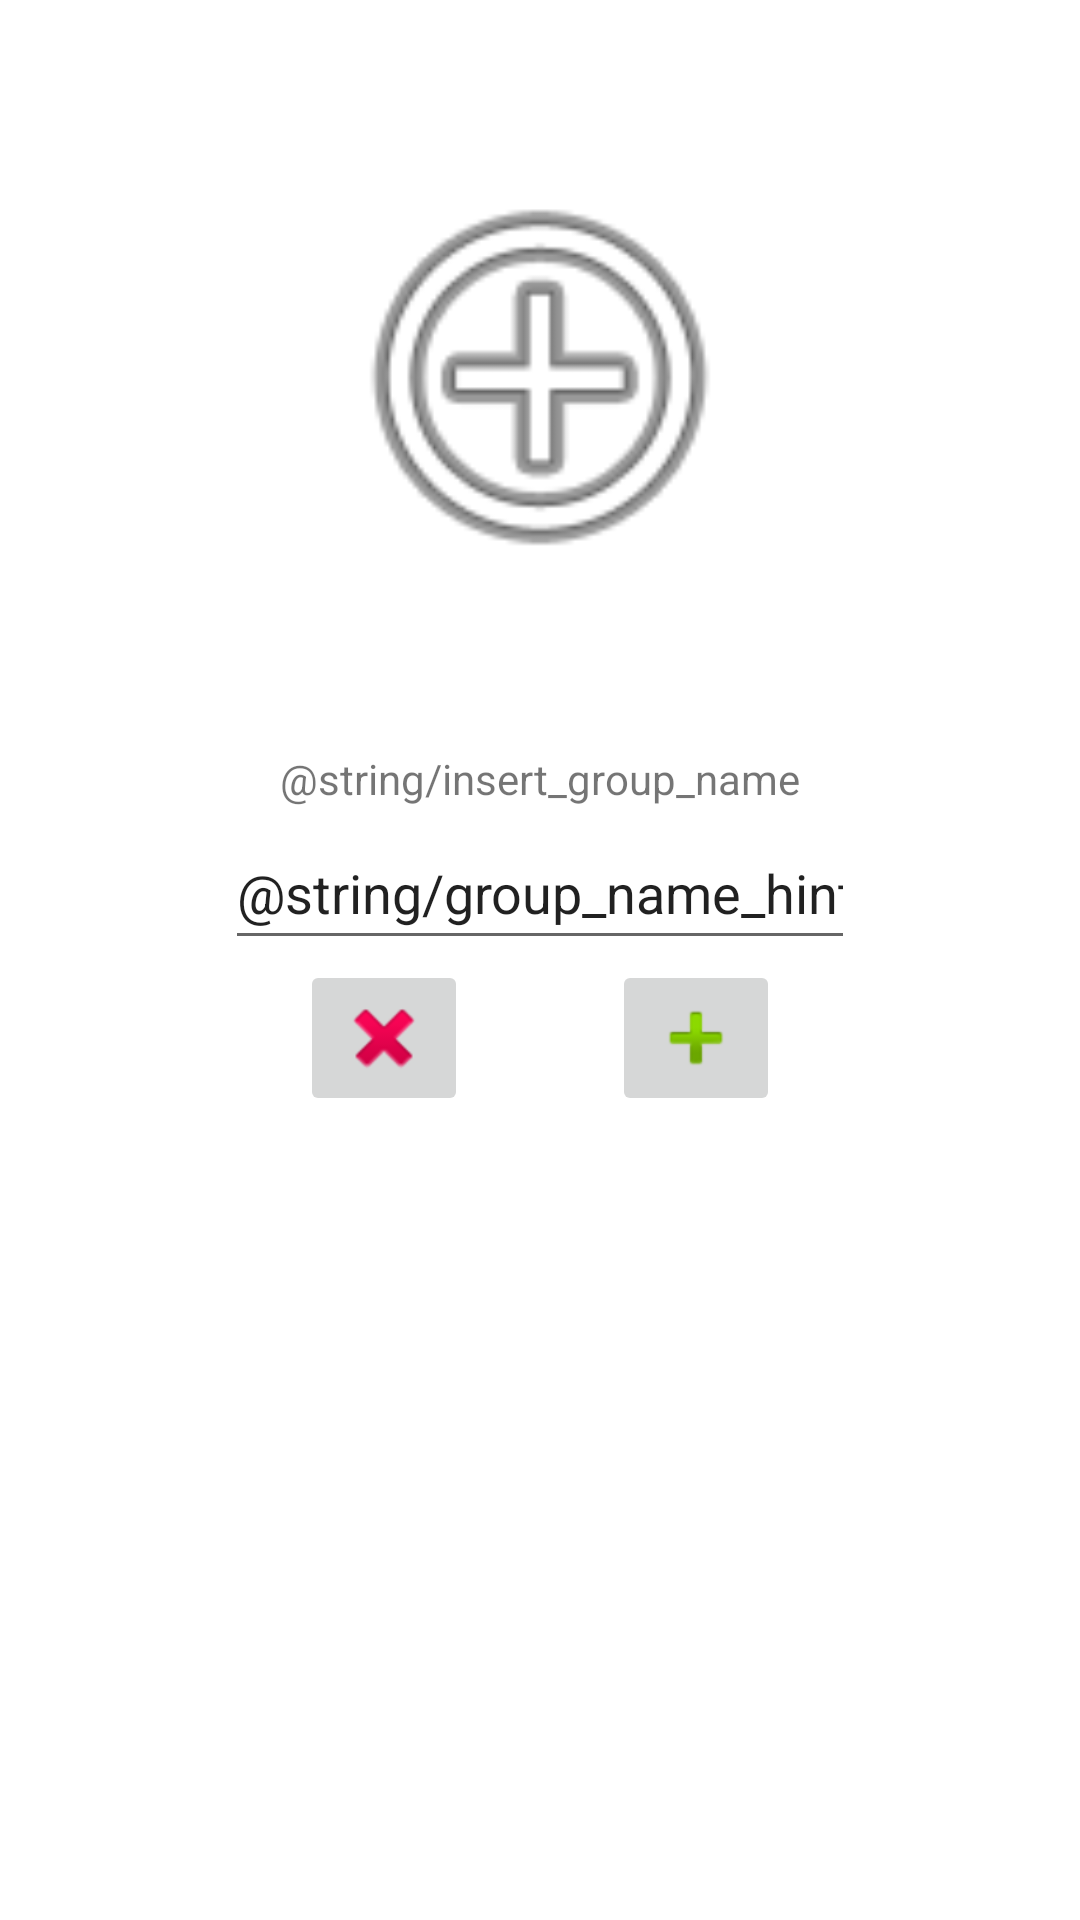

Named icons in this screenshot (1080w x 1920h) and their bounding boxes, bbox=[x1, y1, x2, y2]:
add: bbox=[372, 210, 708, 545], bbox=[624, 978, 768, 1098]
delete: bbox=[312, 978, 456, 1098]
